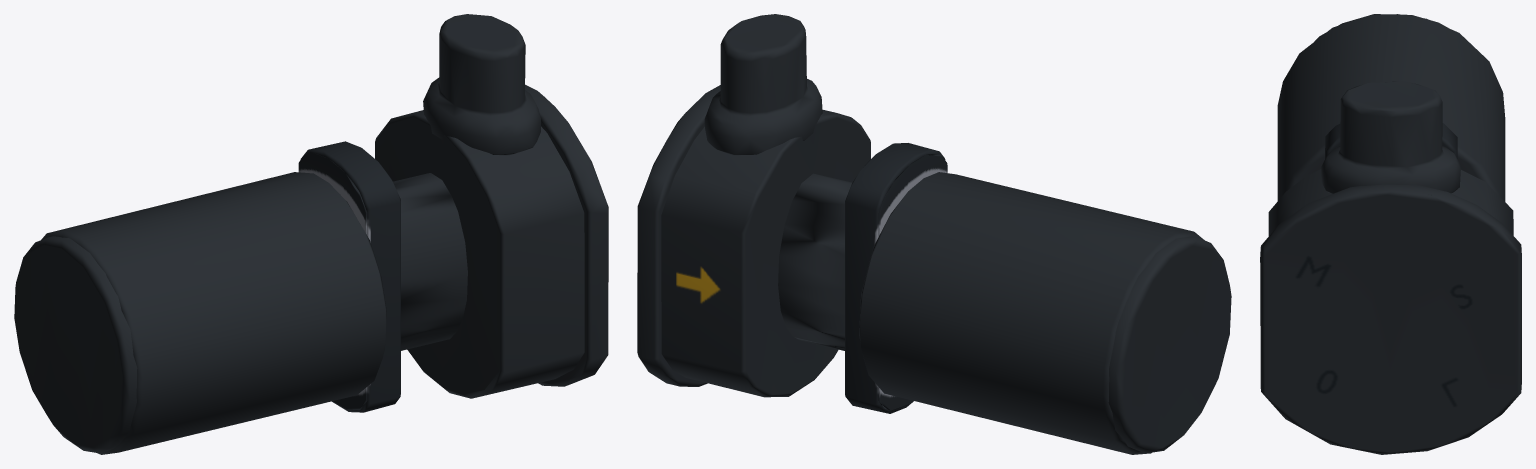
File: 06_GasRegulator_UVReady.fbx
3 renders of one model, left to right at view 1: azimuth 30°, elevation 25°; view 2: azimuth 150°, elevation 25°; view 3: azimuth 270°, elevation 25°, orthographic. The views are drawn at different scales.
Parts seen in each view (by area): view 1: 06_GasRegulator; view 2: 06_GasRegulator; view 3: 06_GasRegulator.
Part boxes in pixels (x1,y1,x2,y2): 06_GasRegulator: (14, 14, 608, 454); 06_GasRegulator: (637, 14, 1231, 454); 06_GasRegulator: (1260, 14, 1521, 454).
Bounding box in the file's own units: 0.0367 × 0.0262 × 0.0186.
Materials: 1 (1 with a texture image).
